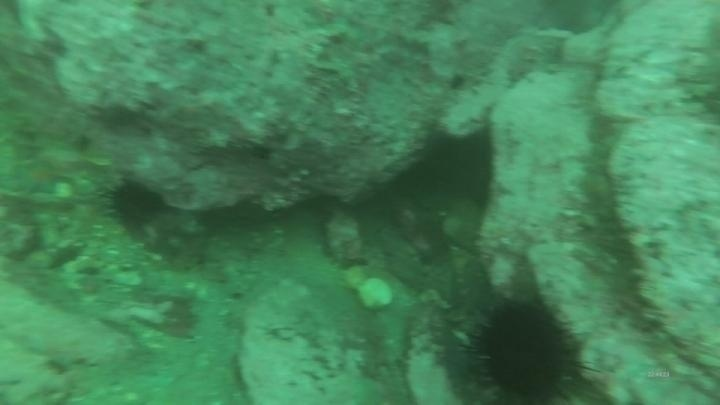echinus: (461, 293, 590, 404), (415, 127, 498, 208), (104, 176, 167, 232)
starfish: (23, 329, 91, 375), (12, 159, 69, 198)
